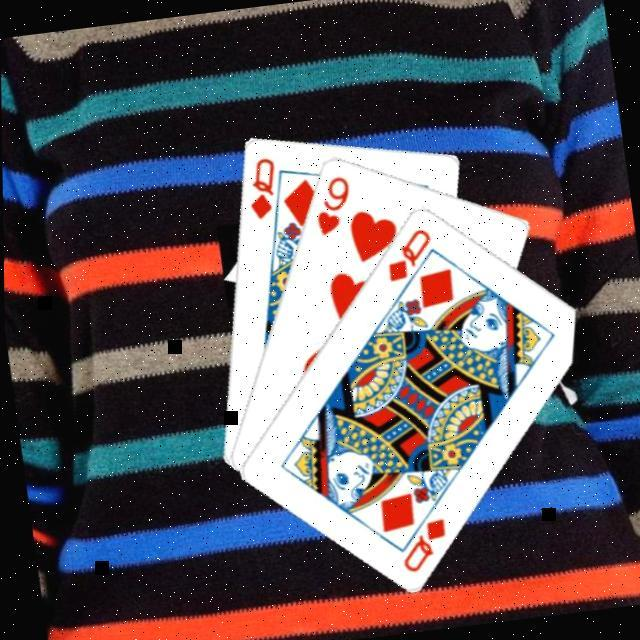9H: (305, 168, 355, 237)
QD: (376, 221, 436, 283), (390, 512, 450, 574), (236, 150, 281, 222)
